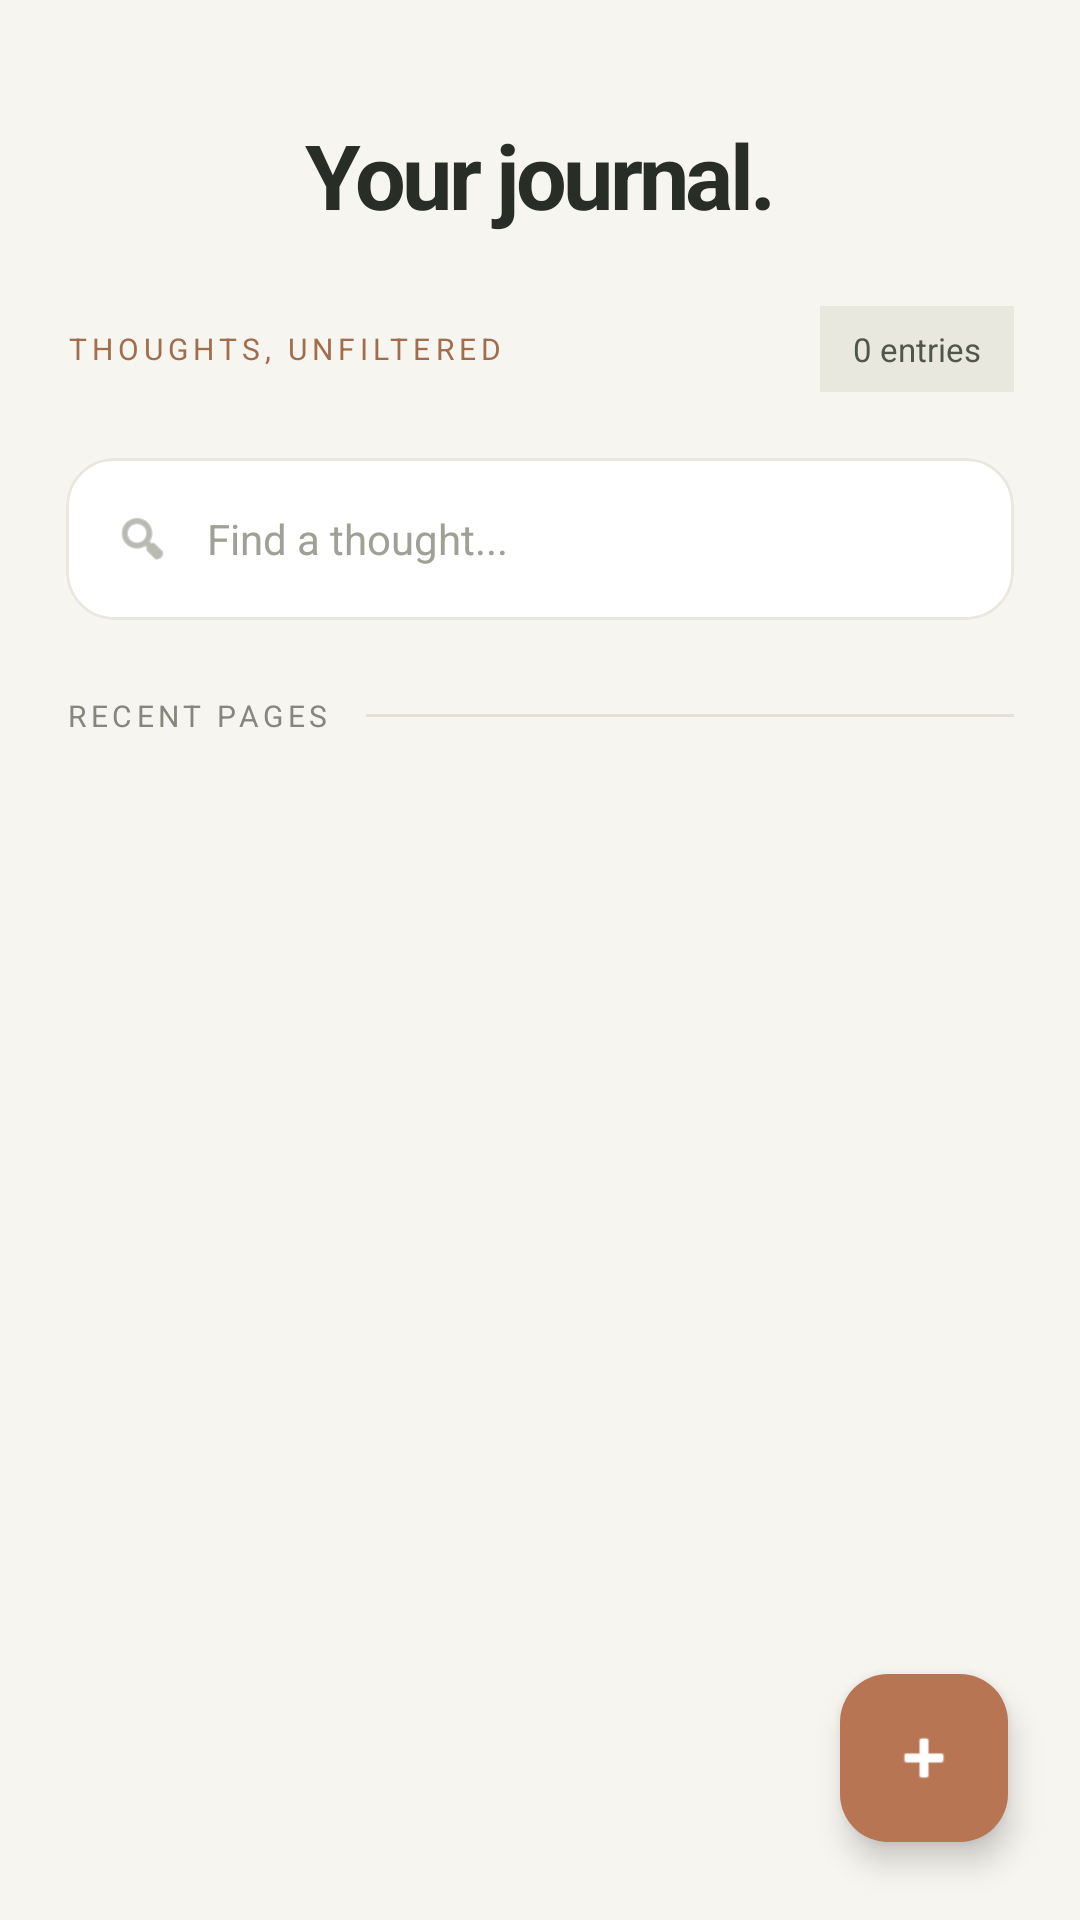

Locate icon controls on the screen. Image size 1080 x 1920, boxes as {"x1": x1, "y1": y1, "x2": x2, "y2": y2}.
Search: {"x1": 122, "y1": 518, "x2": 163, "y2": 560}
Write a new journal entry: {"x1": 840, "y1": 1674, "x2": 1011, "y2": 1859}
